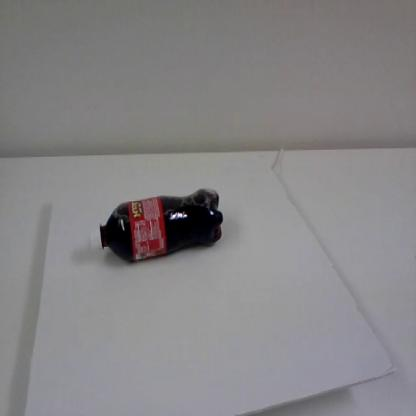bottle: (87, 186, 224, 264)
